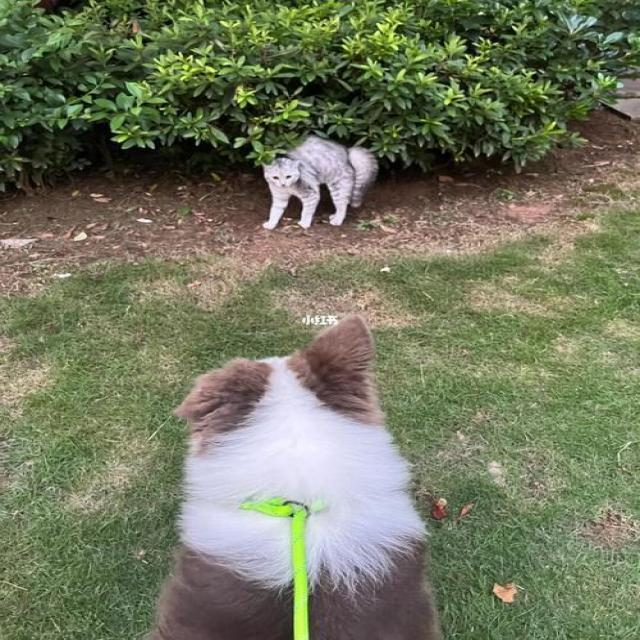cat: (211, 115, 425, 255)
dog: (154, 304, 458, 640)
